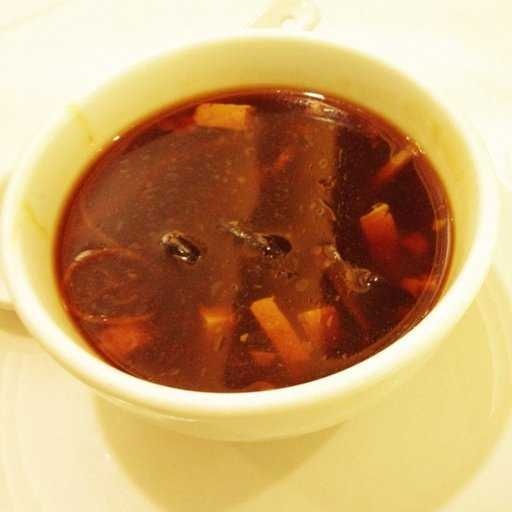soup: (63, 83, 414, 362)
